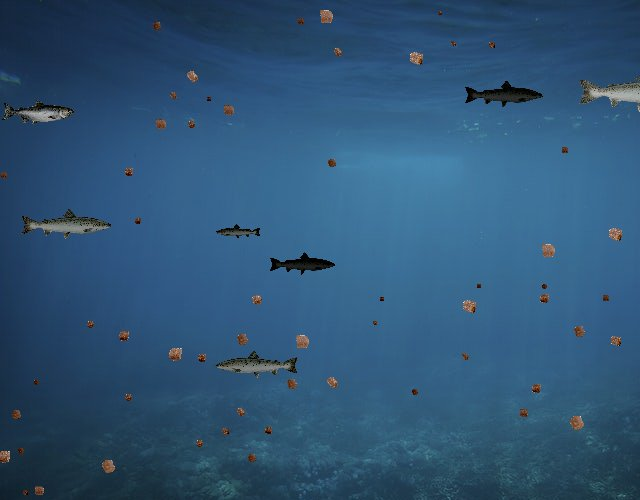Fish: (20, 207, 114, 241), (214, 349, 300, 380), (464, 79, 545, 108), (2, 100, 75, 126), (269, 252, 337, 276), (216, 224, 263, 241)
Pellet: (161, 340, 189, 368), (180, 64, 205, 89), (320, 371, 344, 395), (230, 328, 254, 352), (245, 289, 268, 312), (6, 404, 27, 425), (165, 88, 182, 105), (82, 316, 98, 332), (484, 38, 498, 52), (538, 280, 551, 293), (19, 487, 31, 499)
